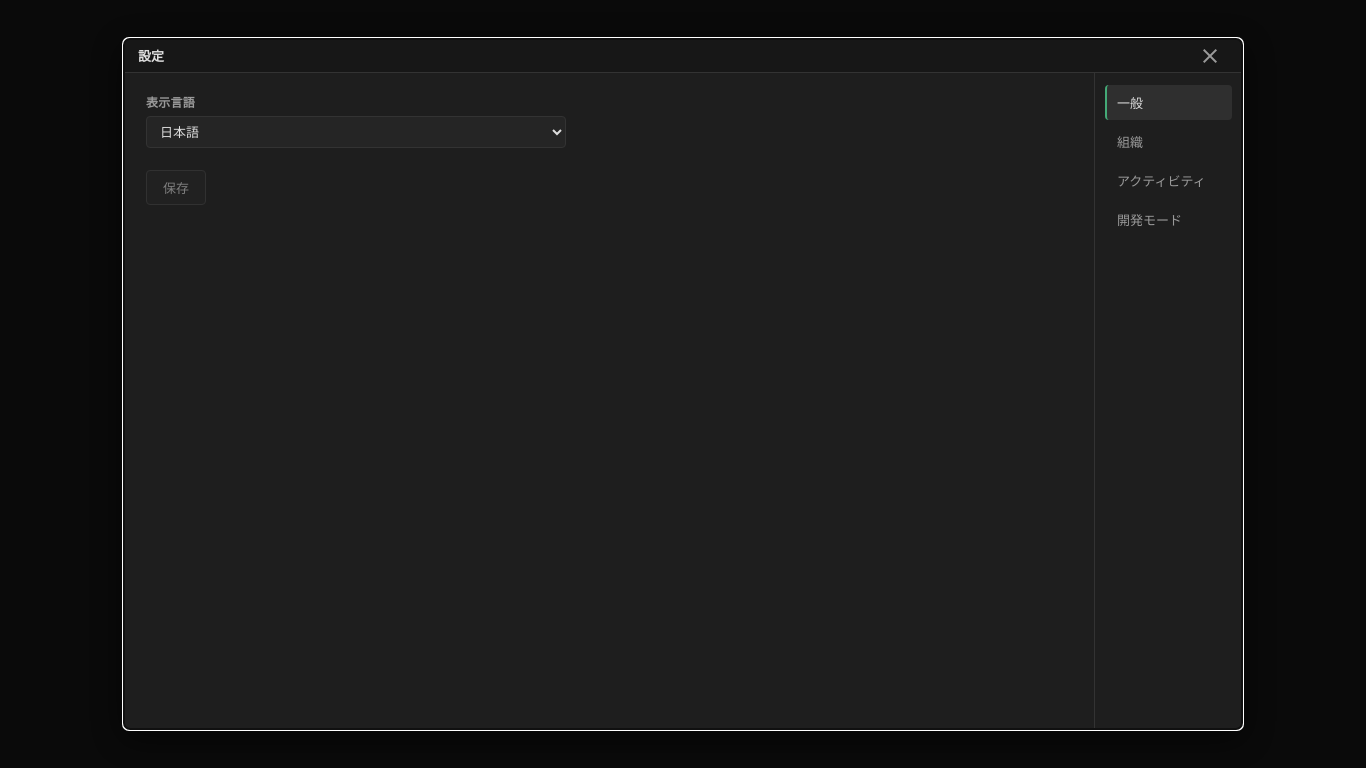
Test case: SettingsModal General tab › reverts a draft edit and hides the bar via Discard
Select "English" in the dropdown labelled "表示言語": (356, 132) [146,116,566,148]
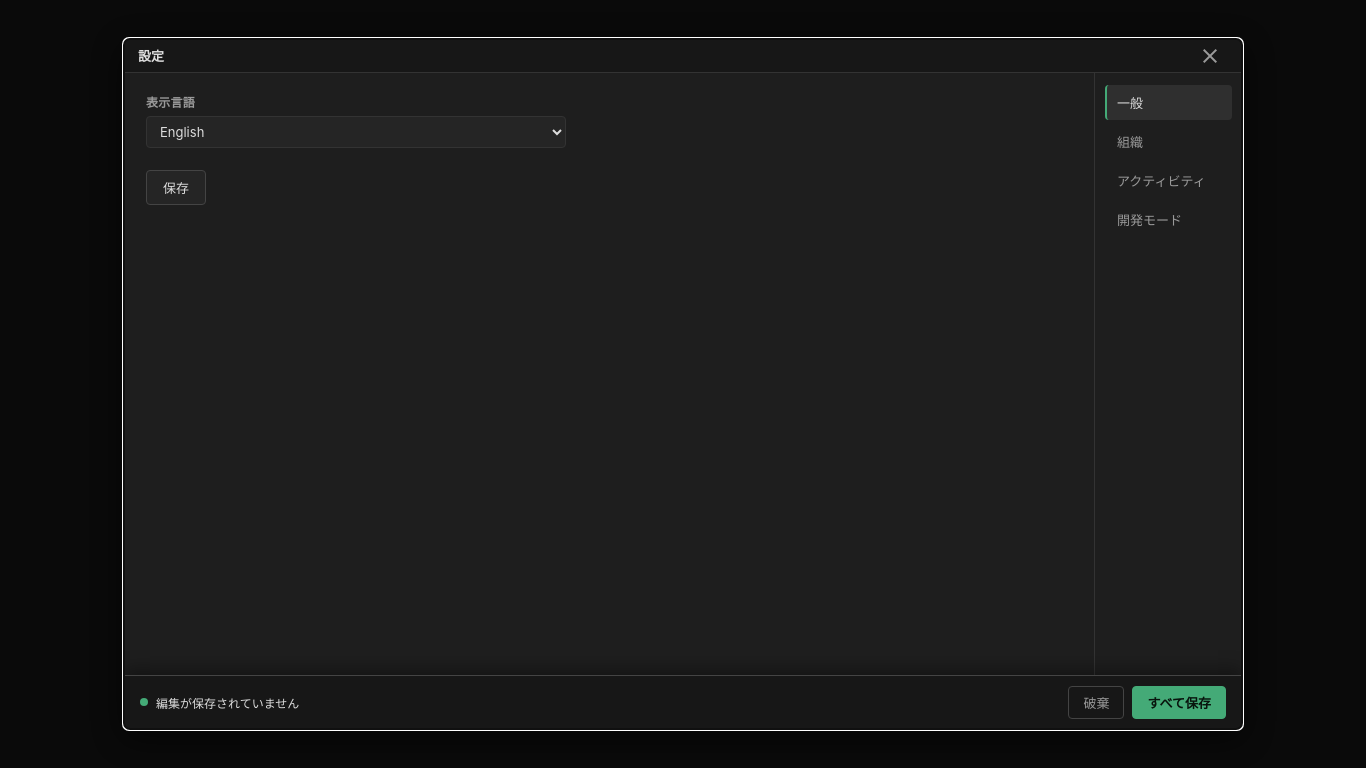
Check: the text "編集が保存されていません" is shown, box [140,694,299,711]
Click the button "破棄": click(1096, 702) [1068,686,1124,719]
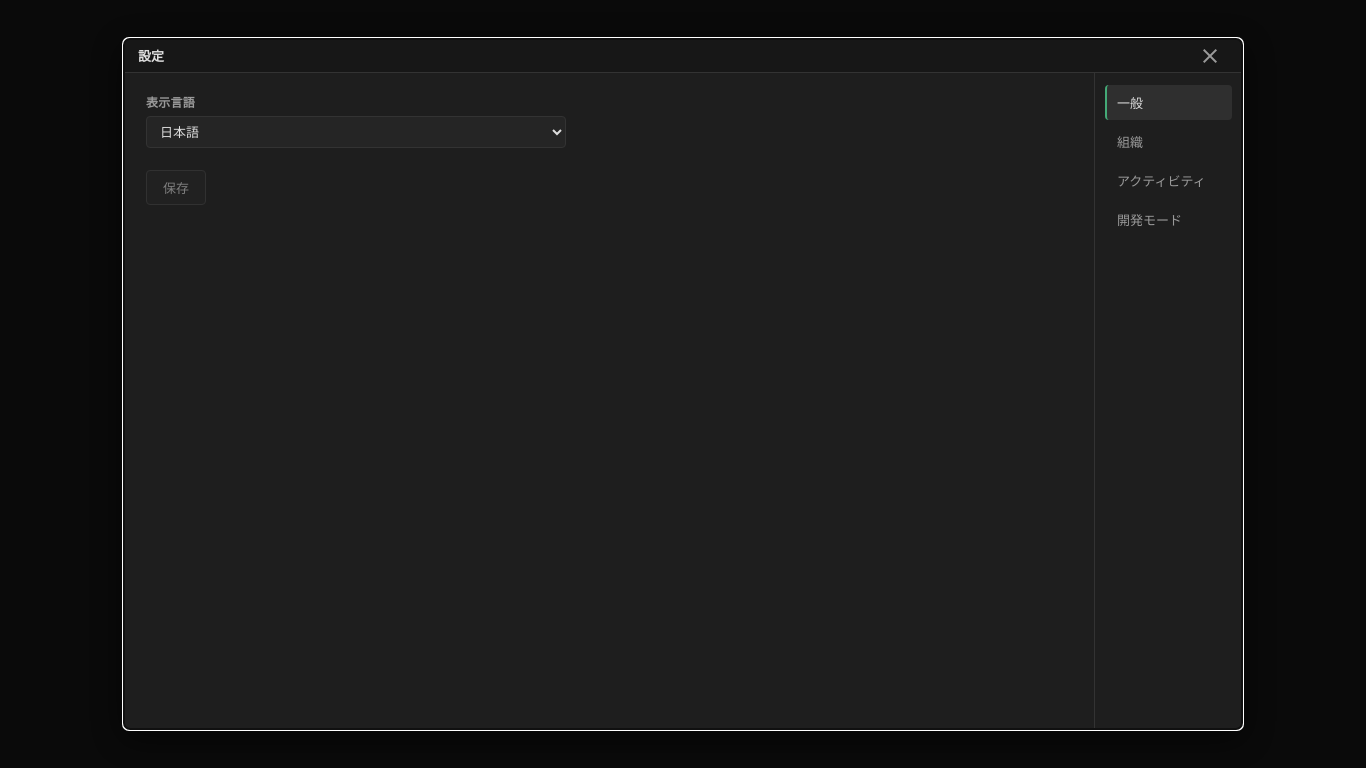
Check: the text "編集が保存されていません" is gone
